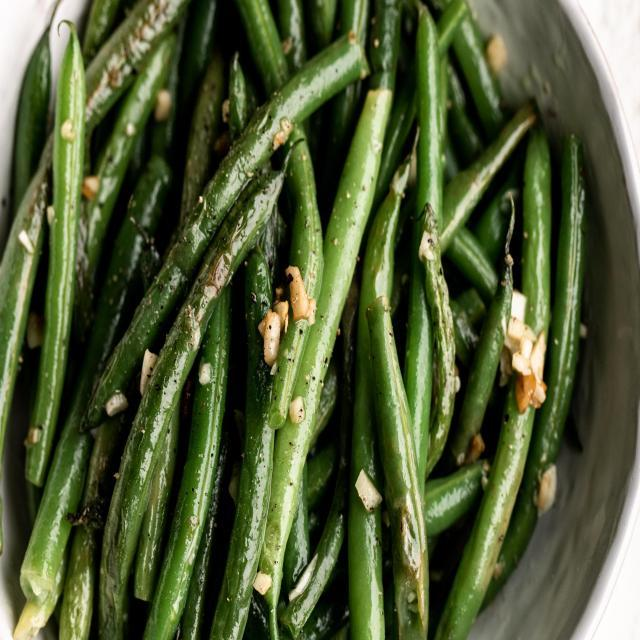Beans: (0, 0, 599, 639)
